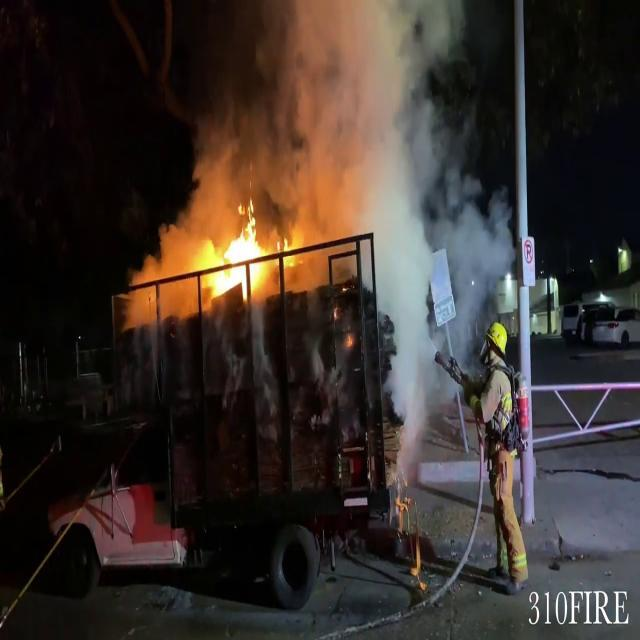Fire: (194, 202, 280, 304)
Smoke: (176, 1, 498, 267), (354, 2, 444, 422)
